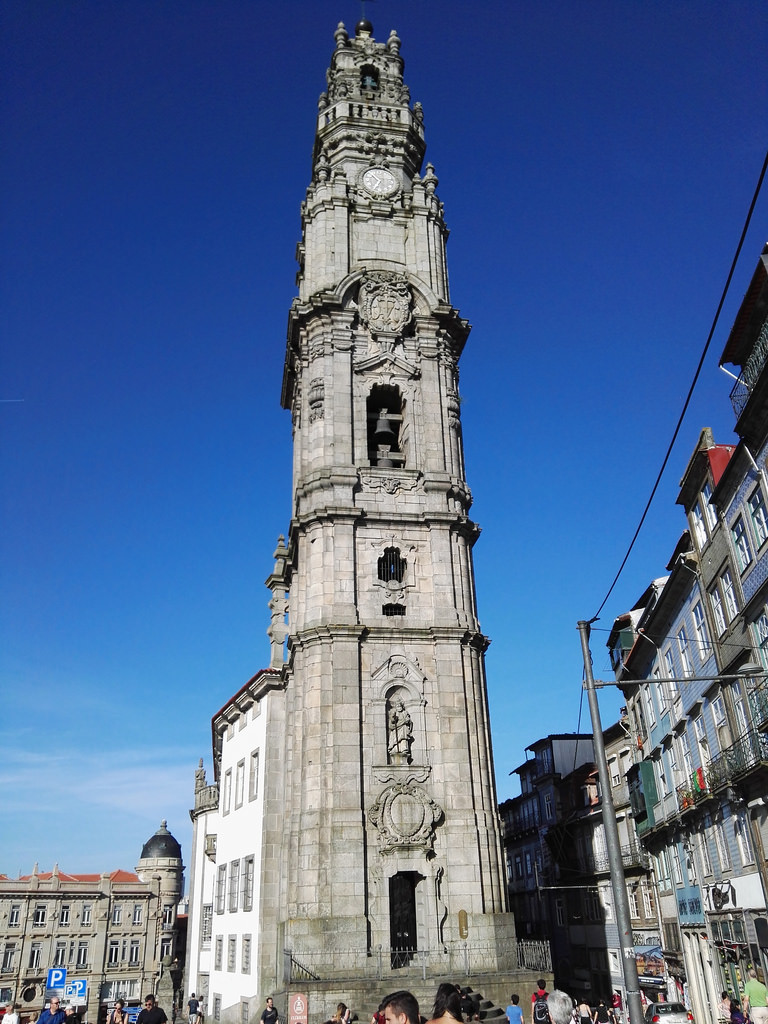clerigos: (281, 0, 521, 971)
